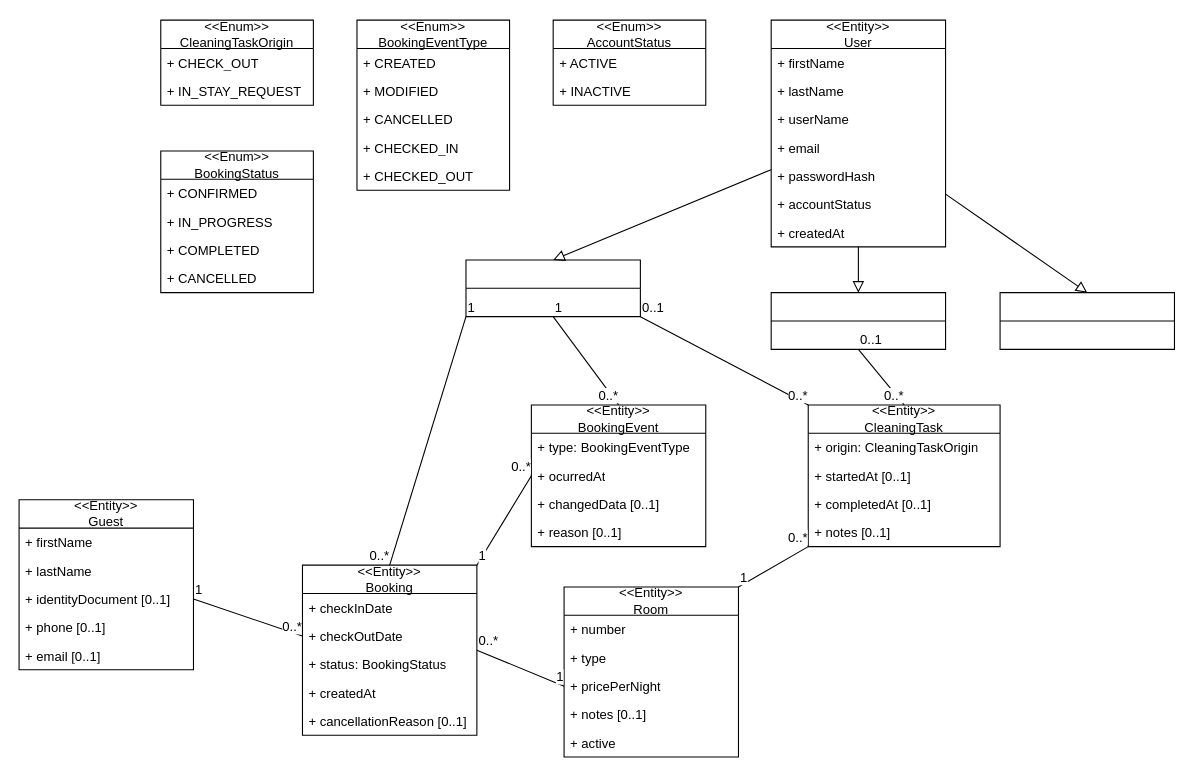
Image size: 1194x779. Some labels were removed from this diagram. Here are the shapes that lost their labels. From the top down, the centre of each, then its label:
the point at 552,288: <<Entity>> Receptionist
the point at 858,320: <<Entity>> Housekeeper
the point at 1086,320: <<Entity>> Administrator
